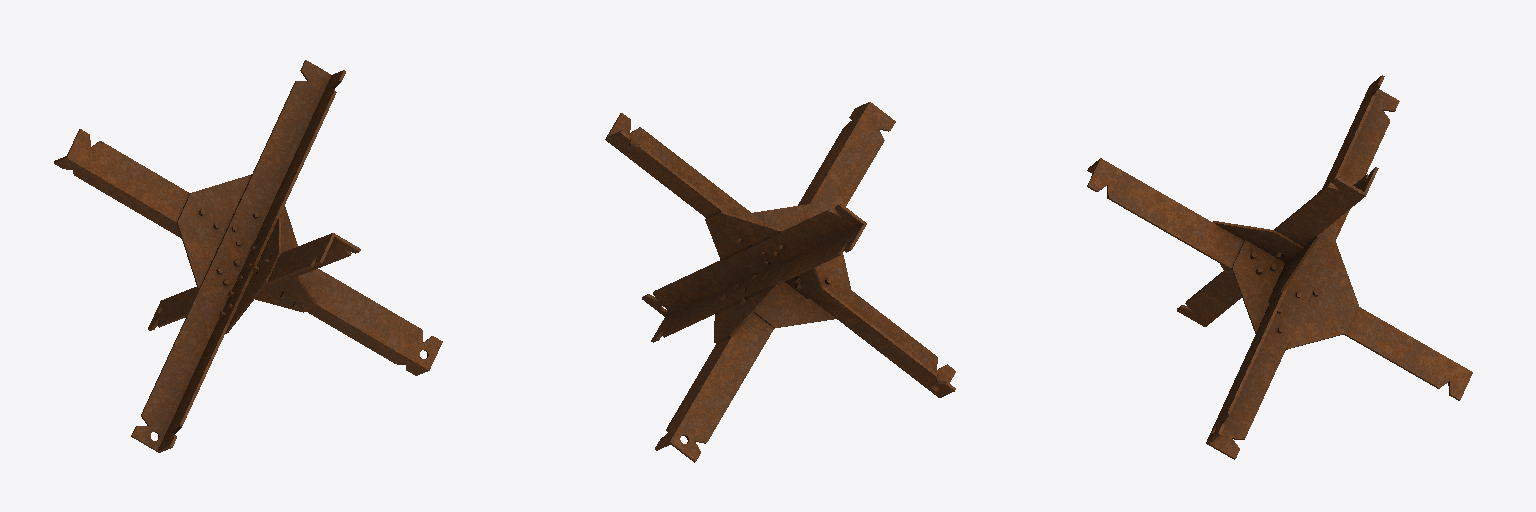
3 renders of one model, left to right at view 1: azimuth 30°, elevation 25°; view 2: azimuth 150°, elevation 25°; view 3: azimuth 270°, elevation 25°, orthographic.
Visible parts, largest first — view 1: Cylinder.004; view 2: Cylinder.004; view 3: Cylinder.004.
Part boxes in pixels (x1,y1,x2,y2): Cylinder.004: (54,60,442,452); Cylinder.004: (605,102,955,462); Cylinder.004: (1087,75,1472,459).
Size of the model in its own units: 0.7064 by 0.5925 by 0.757.
1 materials, 1 textured.